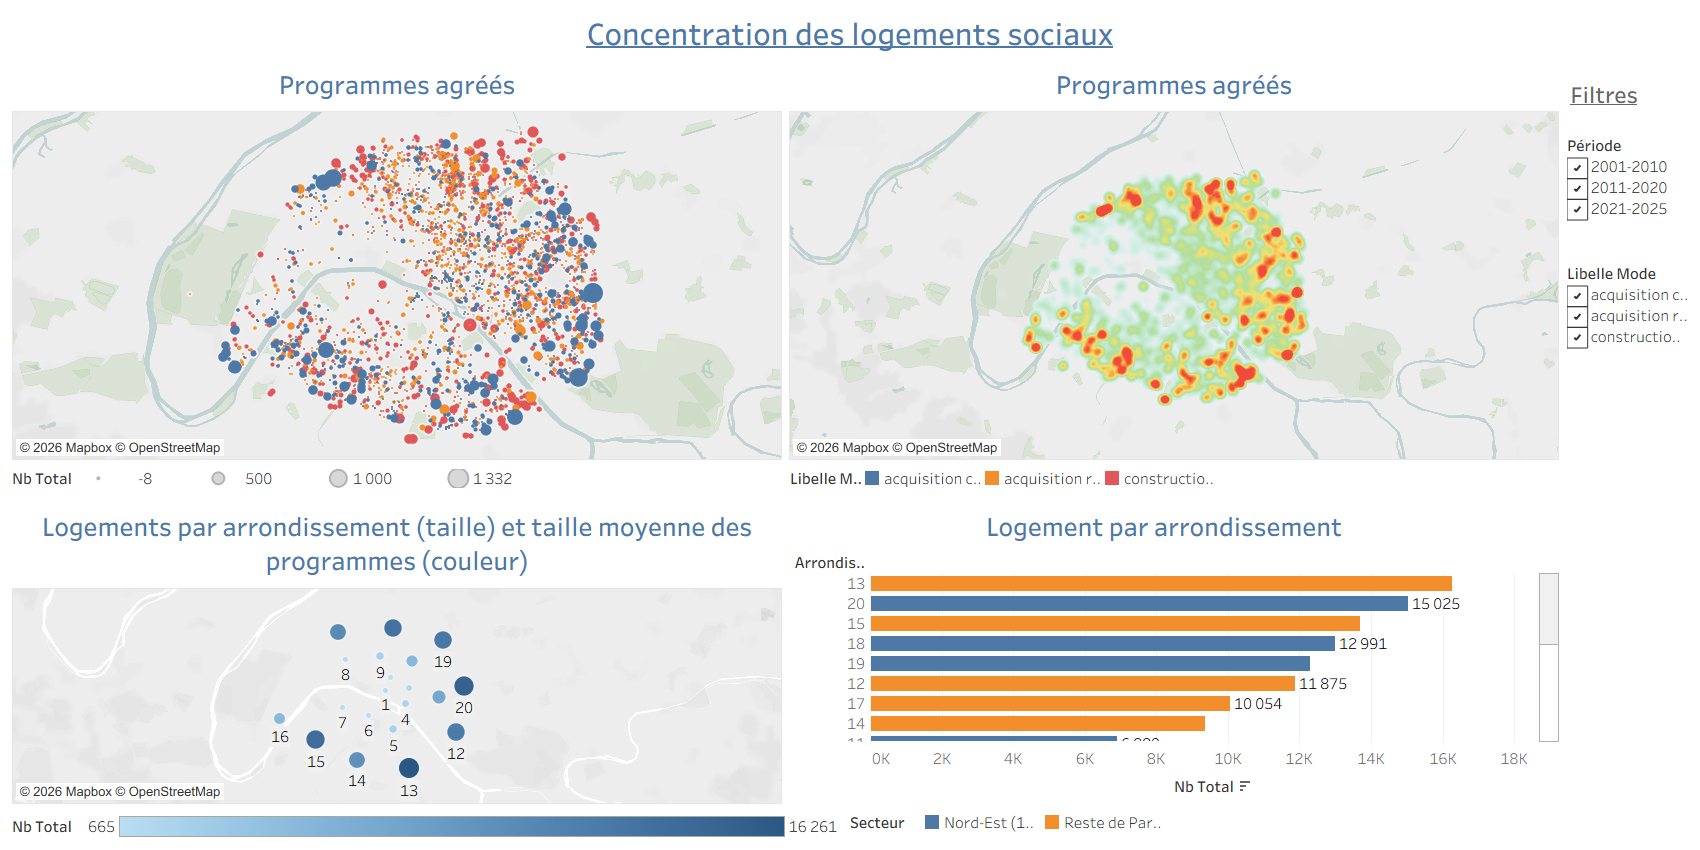

What the dashboard file says about the page in this screenshot:
{"tool":"tableau","page":{"name":"Concentration des logements sociaux","canvas":[1700,850],"ordinal":1},"visuals":[{"type":"title","box":[8,8,1684,49]},{"type":"worksheet","title":"Carte des programmes","mark":"Automatic","rows":["latitude"],"cols":["longitude"],"box":[8,57,777.5,406.5]},{"type":"worksheet","title":"Densité","mark":"Heatmap","rows":["latitude"],"cols":["longitude"],"box":[785.5,57,777.5,406.5]},{"type":"text","box":[1563,57,129,73.4]},{"type":"filter","title":"Carte des programmes","param":"[federated.0s6su5l1ucoj3y10dtg95040we4o].[none:Calculation_1774954313900032:nk]","box":[1563,130.4,129,128]},{"type":"filter","title":"Carte des programmes","param":"[federated.0s6su5l1ucoj3y10dtg95040we4o].[none:libelle_mode:nk]","box":[1563,258.4,129,128]},{"type":"legend","title":"Carte des programmes","param":"[federated.0s6su5l1ucoj3y10dtg95040we4o].[sum:nb_total:qk]","box":[8,463.5,778,35]},{"type":"legend","title":"Carte des programmes","param":"[federated.0s6su5l1ucoj3y10dtg95040we4o].[none:libelle_mode:nk]","box":[786,463.5,777,35]},{"type":"worksheet","title":"Carte par arrondissement","mark":"Automatic","rows":["latitude"],"cols":["longitude"],"box":[8,498.6,778,309.4]},{"type":"worksheet","title":"Logement par arrondissement","mark":"Automatic","rows":["arrondissement"],"cols":["nb_total"],"box":[786,498.6,777,309.4]},{"type":"legend","title":"Carte par arrondissement","param":"[federated.0s6su5l1ucoj3y10dtg95040we4o].[sum:nb_total:qk]","box":[8,807.9,838,34.1]},{"type":"legend","title":"Logement par arrondissement","param":"[federated.0s6su5l1ucoj3y10dtg95040we4o].[none:Calculation_1774954314084354:nk]","box":[846,807.9,717,34.1]}]}

Visuals, with their boxes in screenshot pixels (x1, y1, x2, y2), scaled from the page's 1700x850 canvas onto the 1700x850 screenshot:
title: 8:8:1692:57
"Carte des programmes" worksheet: 8:57:786:464
"Densité" worksheet (Heatmap marks): 786:57:1563:464
text: 1563:57:1692:130
"Carte des programmes" filter: 1563:130:1692:258
"Carte des programmes" filter: 1563:258:1692:386
"Carte des programmes" legend: 8:464:786:498
"Carte des programmes" legend: 786:464:1563:498
"Carte par arrondissement" worksheet: 8:499:786:808
"Logement par arrondissement" worksheet: 786:499:1563:808
"Carte par arrondissement" legend: 8:808:846:842
"Logement par arrondissement" legend: 846:808:1563:842
